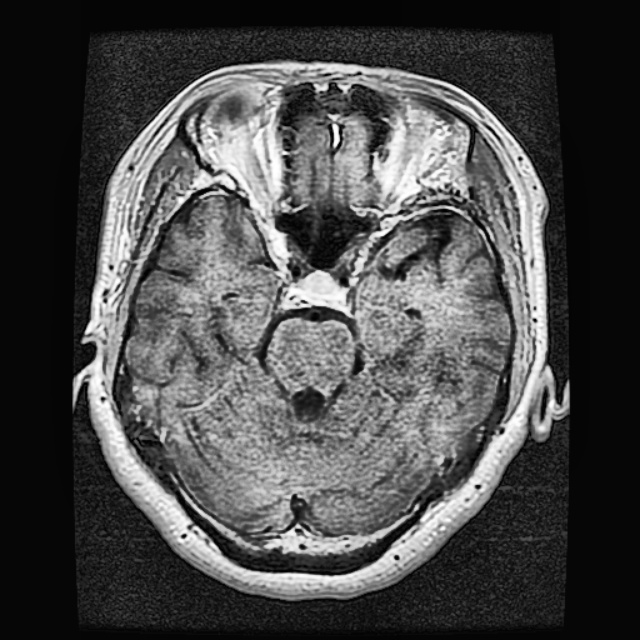Pituitary: (303, 273, 340, 298)
